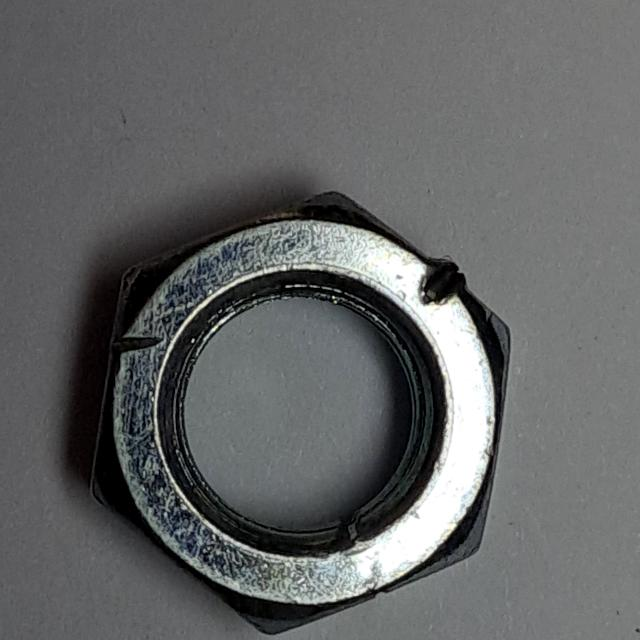Scratches: (79, 181, 527, 640)
